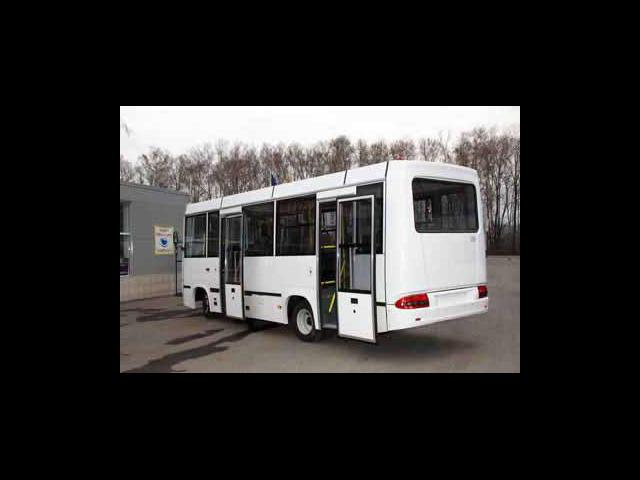bus: (180, 158, 493, 348)
